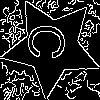C: (26, 21, 76, 62)
